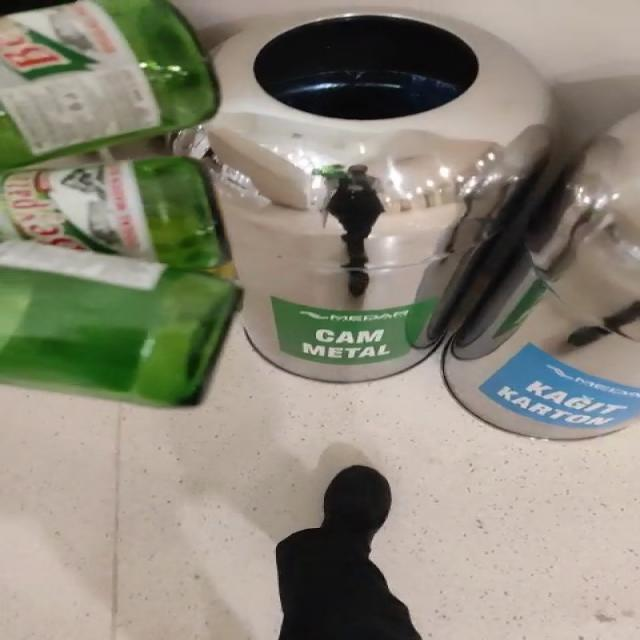Other: (0, 462, 272, 490)
